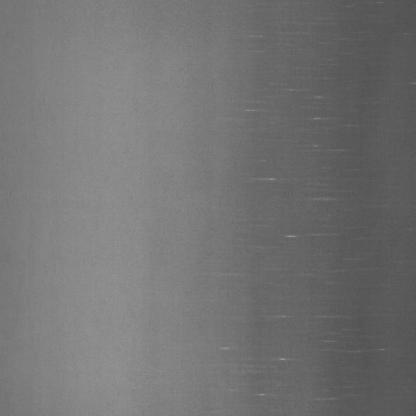waist_folding: (218, 30, 383, 372)
